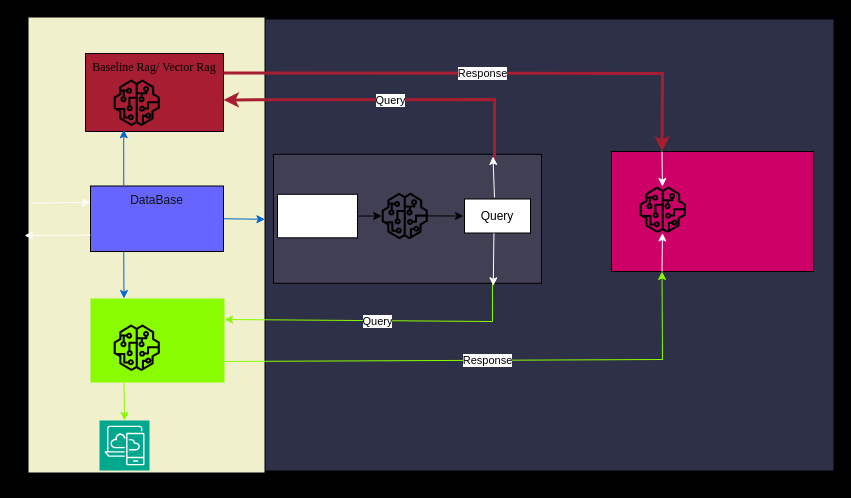
Image size: 851x498. Some labels were removed from this diagram. The box of each missing label's shape, as (x1, y1, x2, y2) in pixels:
Data Sampling: (276, 193, 358, 238)
Graph Rag/ RAG: (90, 298, 224, 382)
